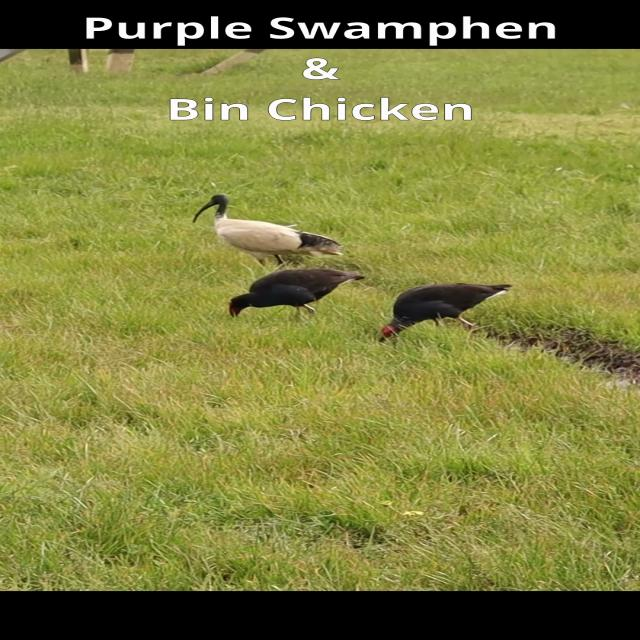Birds-Ibis: (190, 191, 346, 269)
Birds-Other: (378, 280, 515, 345), (225, 264, 368, 321)
